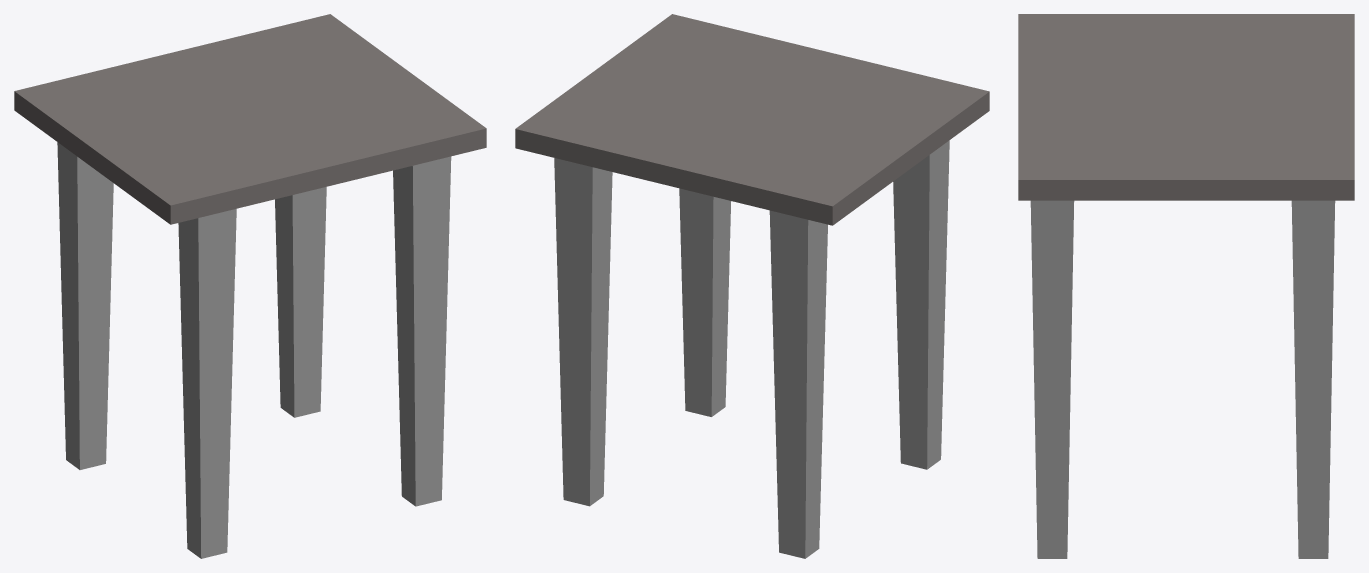
File: SM_Chairs_06.FBX
The picture shows the model from 3 angles, left to right: view 1: azimuth 30°, elevation 25°; view 2: azimuth 150°, elevation 25°; view 3: azimuth 270°, elevation 25°; orthographic projection. The views are drawn at different scales.
Parts seen in each view (by area): view 1: SM_Chairs_06; view 2: SM_Chairs_06; view 3: SM_Chairs_06.
Part boxes in pixels (<box>): SM_Chairs_06: <box>14,14,486,558</box>; SM_Chairs_06: <box>515,14,989,558</box>; SM_Chairs_06: <box>1018,14,1354,558</box>.
Size of the model in its own units: 52.39 by 44.88 by 58.54.
